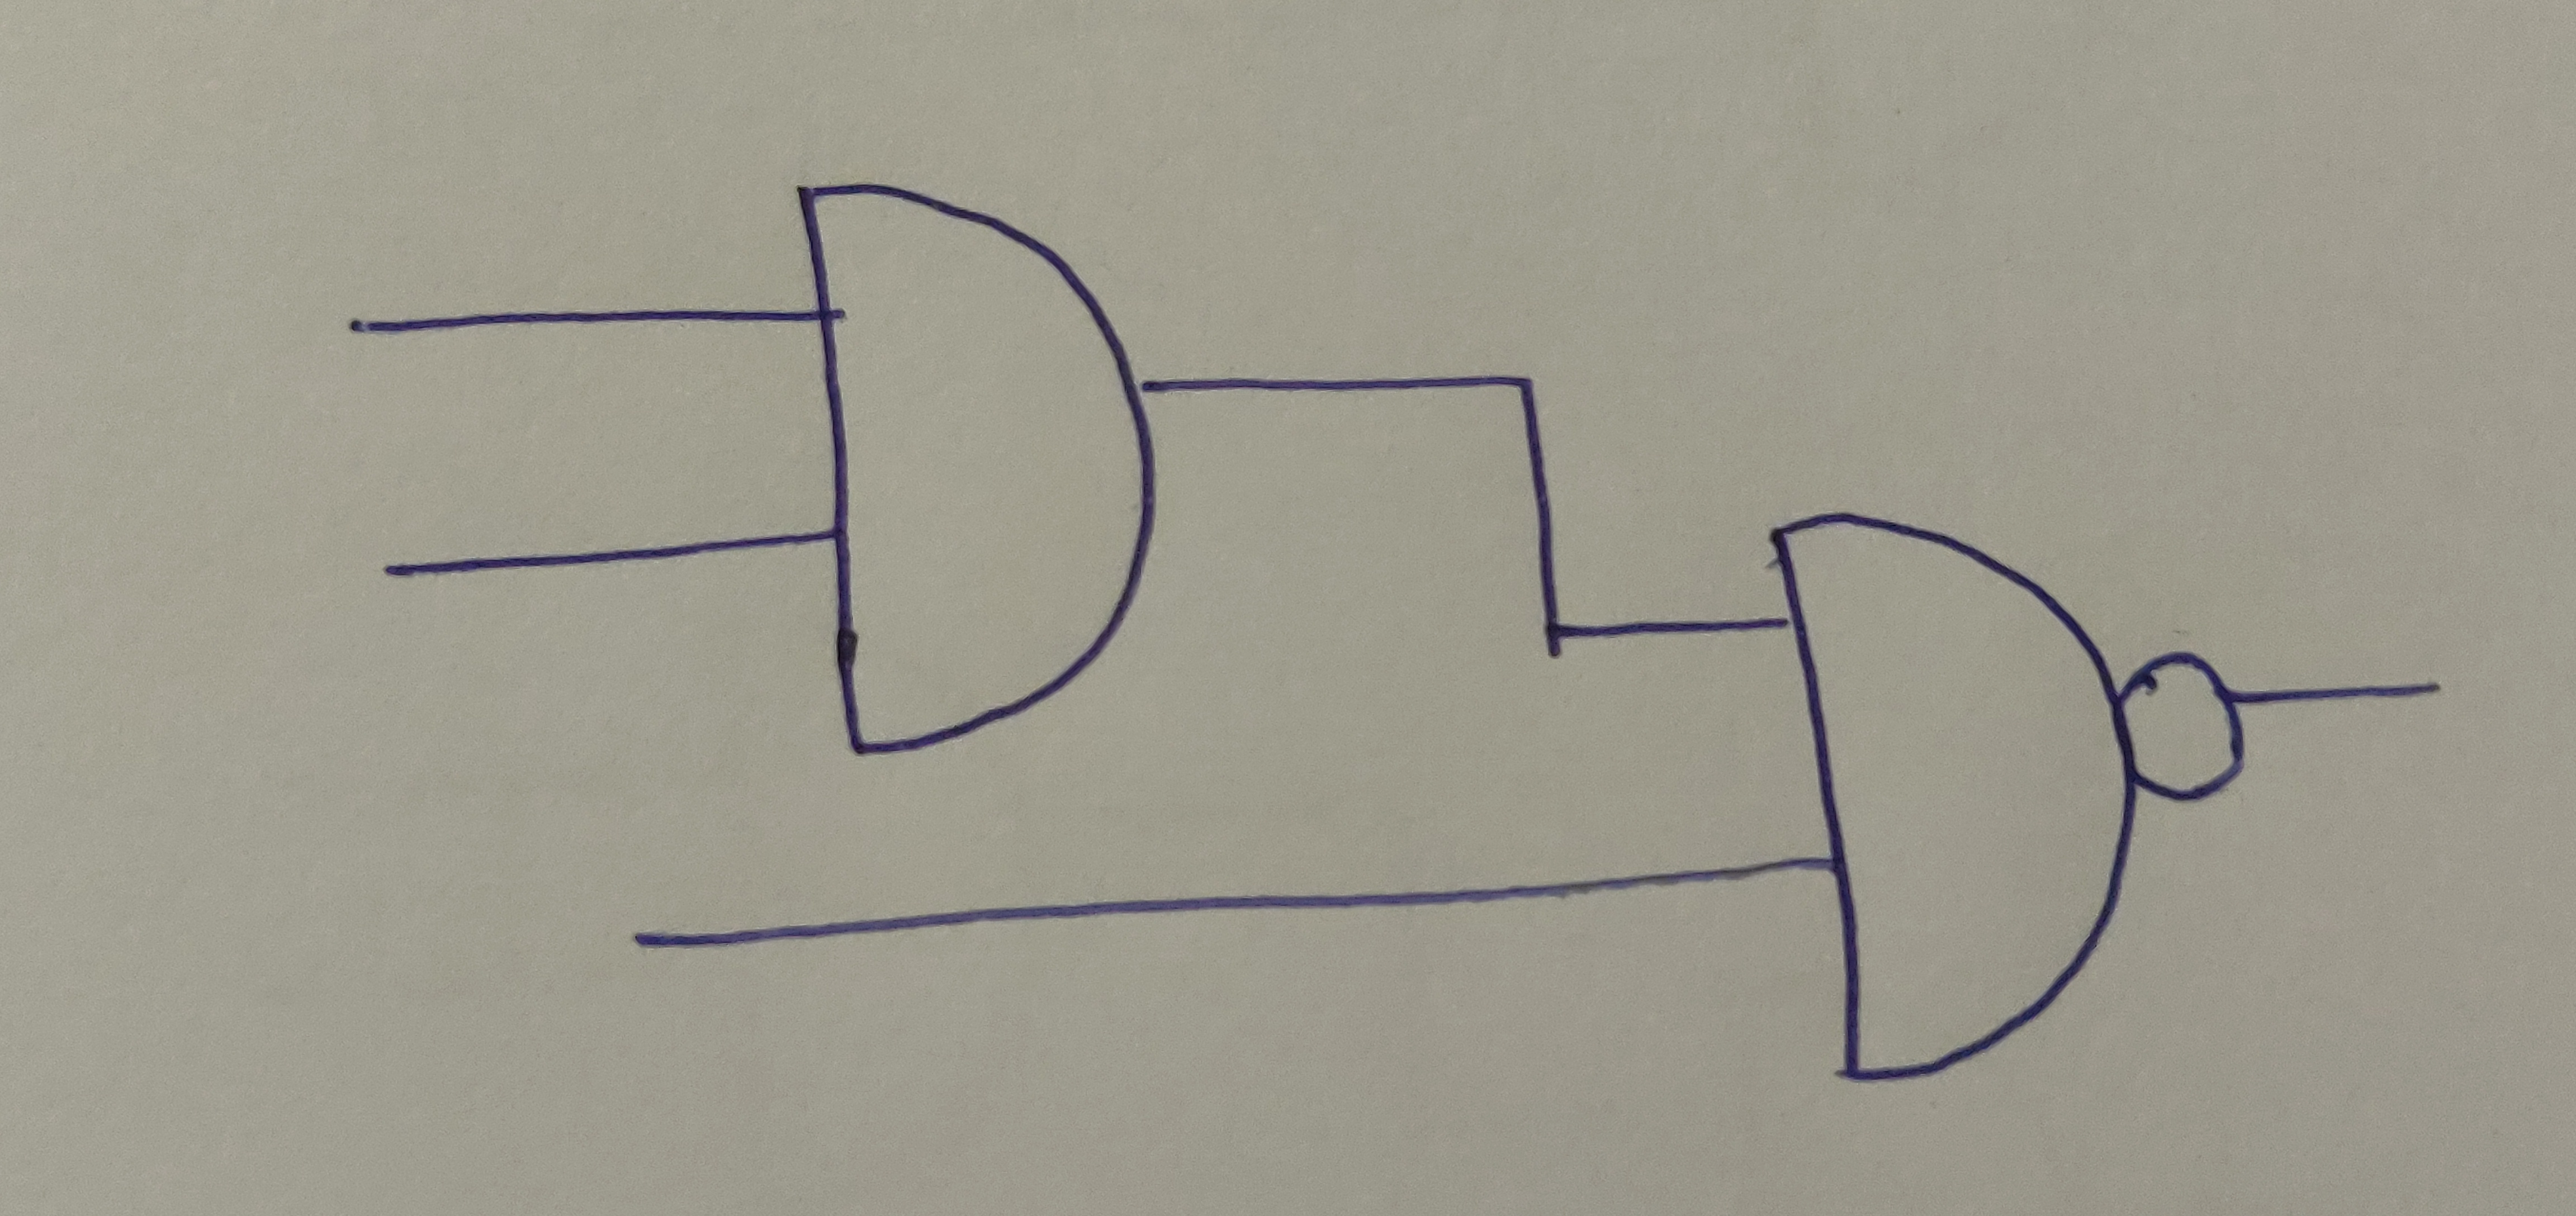and: (795, 177, 1158, 758), (1761, 519, 2134, 1081)
not: (2109, 656, 2246, 805)
